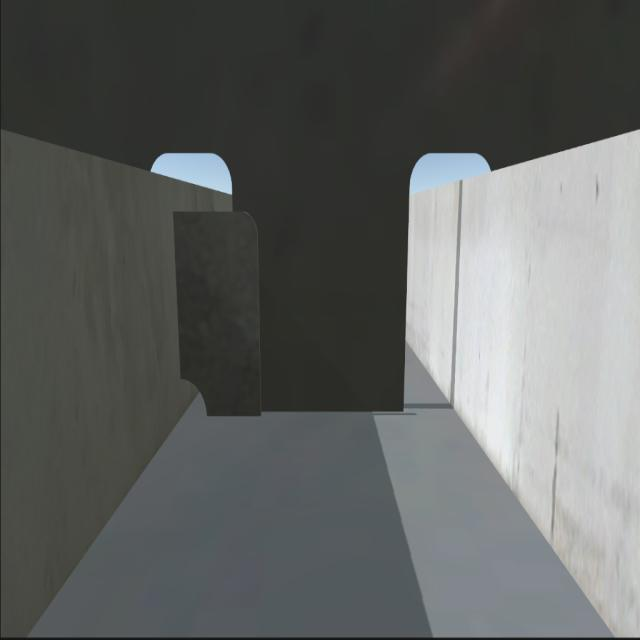fillet_hole: (178, 372, 212, 420)
fillet_yong_jeop_jang: (206, 406, 407, 418)
longi_yong_jeop_jang: (171, 211, 187, 376)
plate_CP05: (173, 206, 261, 412)
